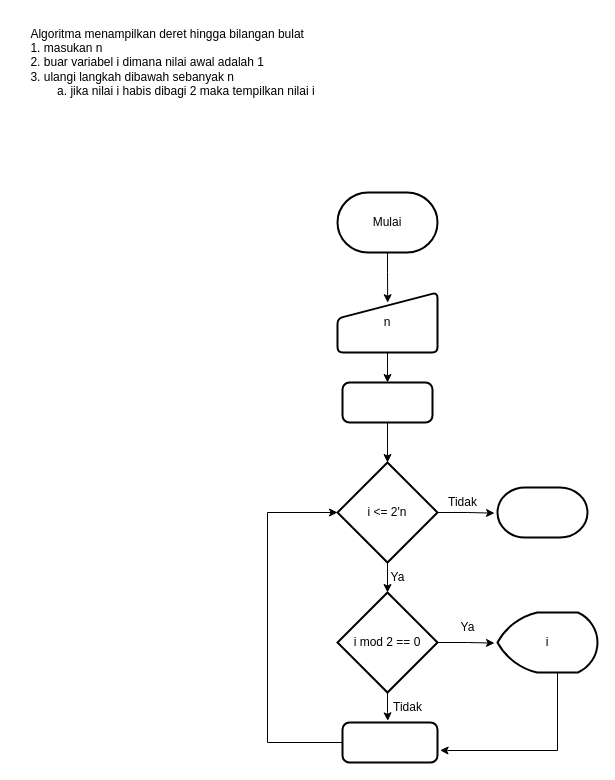
Image size: 615x780. Some labels were removed from this diagram. The box of each missing label's shape, as (x1, y1, x2, y2) in pixels:
i = 1: (341, 381, 433, 423)
i = i + 1: (341, 721, 438, 763)
selesai: (496, 486, 588, 538)
